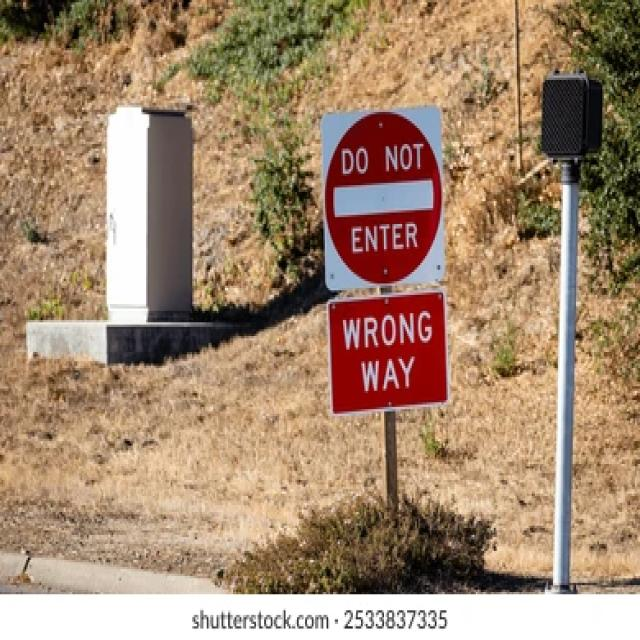doNotEnter: (323, 105, 446, 288)
